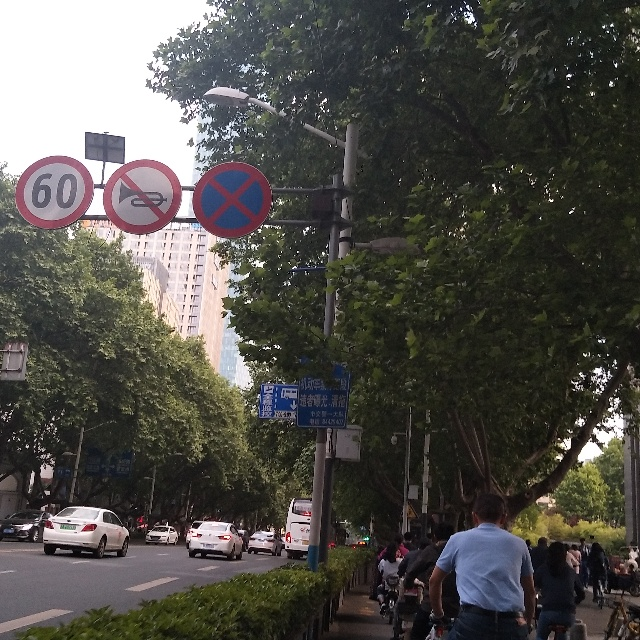nohonk: (103, 160, 182, 235)
stop: (193, 162, 272, 238)
